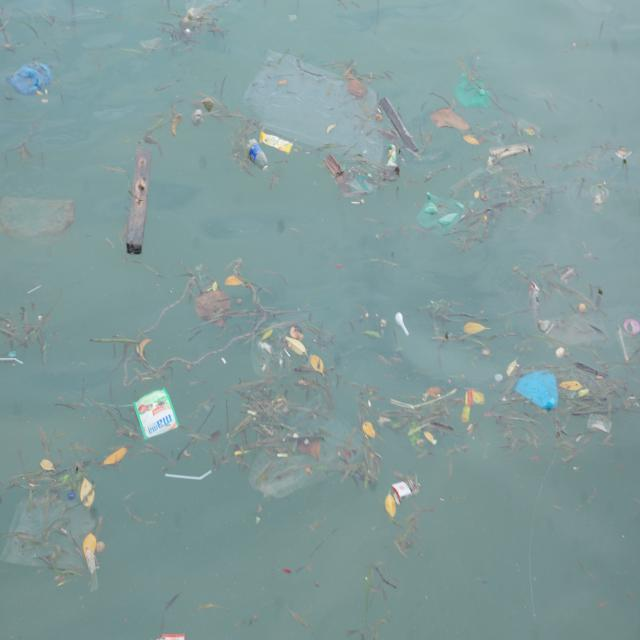Botol Plastik: (244, 135, 271, 179)
Bungkus Minuman: (387, 143, 399, 170)
Kantong Plastik: (1, 494, 98, 577), (248, 440, 325, 501), (418, 192, 475, 235), (513, 368, 560, 413), (9, 59, 57, 102), (455, 71, 492, 110)
